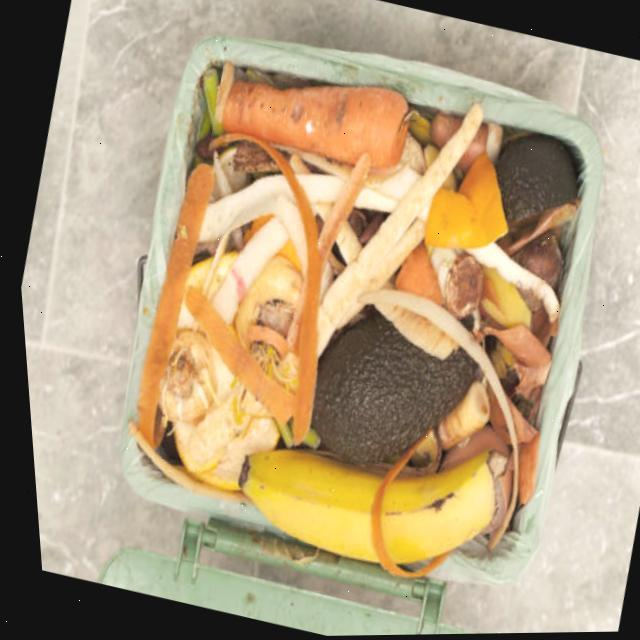Garbage: (118, 58, 573, 580)
